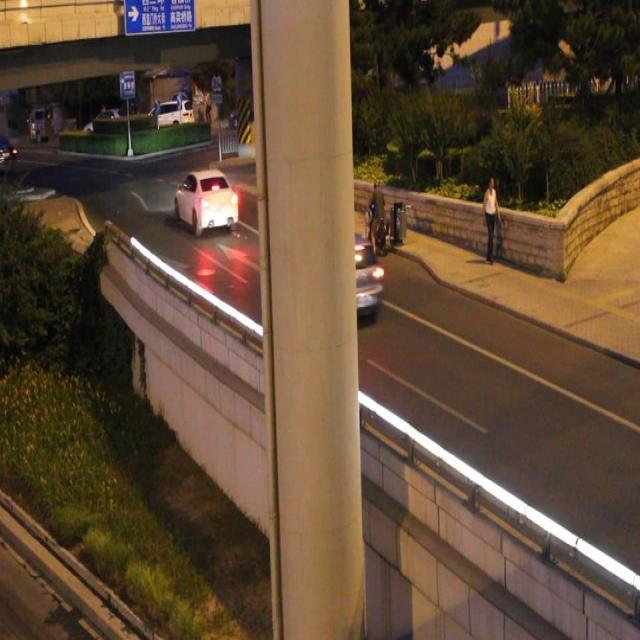car: (292, 229, 384, 320), (173, 168, 238, 234)
